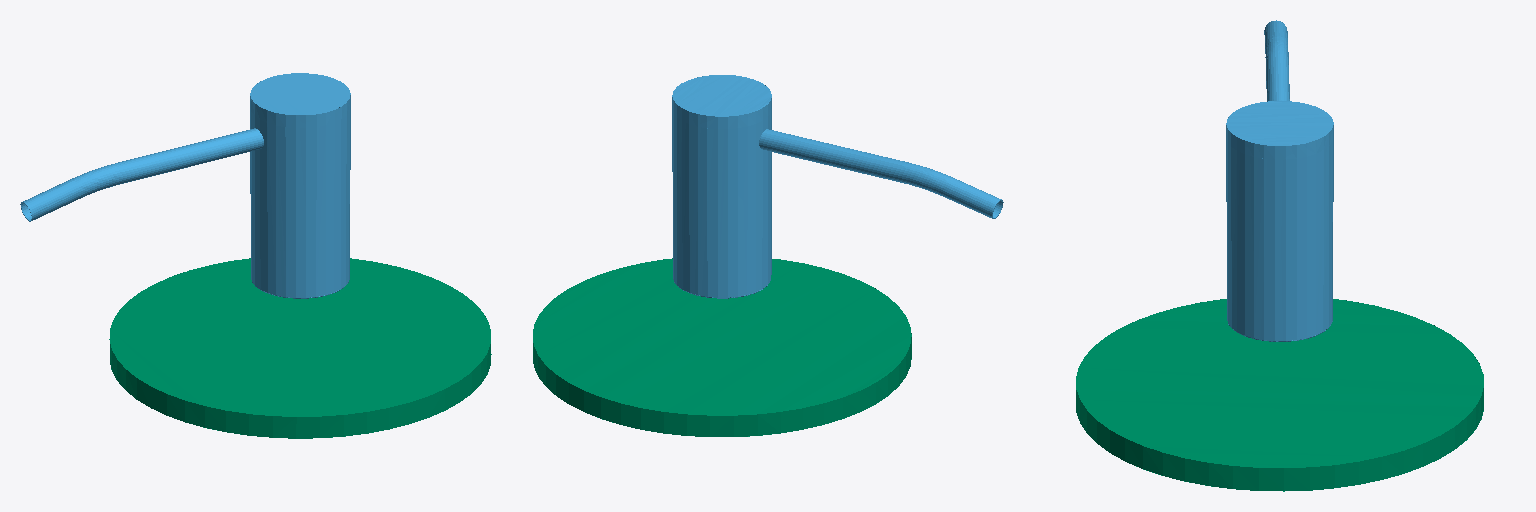
The robot description file, URDF, robot "partnet_e4855c2e-b91c-4372-81fc-cedf42a99185-0":
<?xml version="1.0" ?>
<robot name="partnet_e4855c2e-b91c-4372-81fc-cedf42a99185-0">
	<link name="base"/>
	<link name="link_0">
		<visual name="pressing_lid-1">
			<origin xyz="-0.009750109228952437 0 -0.00019839186977227983"/>
			<geometry>
				<mesh filename="textured_objs/original-6.obj"/>
			</geometry>
		</visual>
		<visual name="pressing_lid-1">
			<origin xyz="-0.009750109228952437 0 -0.00019839186977227983"/>
			<geometry>
				<mesh filename="textured_objs/original-4.obj"/>
			</geometry>
		</visual>
		<visual name="pressing_lid-1">
			<origin xyz="-0.009750109228952437 0 -0.00019839186977227983"/>
			<geometry>
				<mesh filename="textured_objs/original-3.obj"/>
			</geometry>
		</visual>
		<collision>
			<origin xyz="-0.009750109228952437 0 -0.00019839186977227983"/>
			<geometry>
				<mesh filename="textured_objs/original-6.obj"/>
			</geometry>
		</collision>
		<collision>
			<origin xyz="-0.009750109228952437 0 -0.00019839186977227983"/>
			<geometry>
				<mesh filename="textured_objs/original-4.obj"/>
			</geometry>
		</collision>
		<collision>
			<origin xyz="-0.009750109228952437 0 -0.00019839186977227983"/>
			<geometry>
				<mesh filename="textured_objs/original-3.obj"/>
			</geometry>
		</collision>
	</link>
	<joint name="joint_0" type="continuous">
		<origin xyz="0.0 0 0.0"/>
		<axis xyz="0 1 0"/>
		<child link="link_0"/>
		<parent link="link_0_helper"/>
	</joint>
	<link name="link_1">
		<visual name="head-3">
			<origin xyz="-0.009750053090139935 0 -0.00019853128332106632"/>
			<geometry>
				<mesh filename="textured_objs/original-10.obj"/>
			</geometry>
		</visual>
		<visual name="head-3">
			<origin xyz="-0.009750053090139935 0 -0.00019853128332106632"/>
			<geometry>
				<mesh filename="textured_objs/original-7.obj"/>
			</geometry>
		</visual>
		<collision>
			<origin xyz="-0.009750053090139935 0 -0.00019853128332106632"/>
			<geometry>
				<mesh filename="textured_objs/original-10.obj"/>
			</geometry>
		</collision>
		<collision>
			<origin xyz="-0.009750053090139935 0 -0.00019853128332106632"/>
			<geometry>
				<mesh filename="textured_objs/original-7.obj"/>
			</geometry>
		</collision>
	</link>
	<joint name="joint_1" type="continuous">
		<origin xyz="0.0 0 0.0"/>
		<axis xyz="0 -1 0"/>
		<child link="link_1"/>
		<parent link="link_1_helper"/>
	</joint>
	<link name="link_2">
		<visual name="base_body-5">
			<origin xyz="0 0 0"/>
			<geometry>
				<mesh filename="textured_objs/original-9.obj"/>
			</geometry>
		</visual>
		<collision>
			<origin xyz="0 0 0"/>
			<geometry>
				<mesh filename="textured_objs/original-9.obj"/>
			</geometry>
		</collision>
	</link>
	<joint name="joint_2" type="fixed">
		<origin rpy="1.570796326794897 0 -1.570796326794897" xyz="0 0 0"/>
		<child link="link_2"/>
		<parent link="base"/>
	</joint>
	<link name="link_0_helper"/>
	<joint name="joint_3" type="prismatic">
		<origin xyz="5.613881250143837e-08 0 -1.394135487864899e-07"/>
		<axis xyz="0 -1 0"/>
		<child link="link_0_helper"/>
		<parent link="link_1"/>
		<limit lower="0" upper="0.06"/>
	</joint>
	<link name="link_1_helper"/>
	<joint name="joint_4" type="prismatic">
		<origin xyz="0.009750053090139935 0 0.00019853128332106632"/>
		<axis xyz="0 1 0"/>
		<child link="link_1_helper"/>
		<parent link="link_2"/>
		<limit lower="0" upper="0.02"/>
	</joint>
</robot>

--- Render facts (derived) ---
Views: 3 orthographic renders of the robot side by side, from view 1: azimuth 30°, elevation 25°; view 2: azimuth 150°, elevation 25°; view 3: azimuth 270°, elevation 25°.
Robot: partnet_e4855c2e-b91c-4372-81fc-cedf42a99185-0 — 6 links, 5 joints (2 continuous, 2 prismatic, 1 fixed); root link base; default pose: all joints at 0.
Visible links, largest first — view 1: link_1, link_0; view 2: link_1, link_0; view 3: link_1, link_0.
Link boxes in pixels (box(x1,y1,x2,y2)): link_1: box(109, 258, 491, 438); link_0: box(20, 73, 350, 298); link_1: box(533, 258, 911, 436); link_0: box(672, 75, 1003, 298); link_1: box(1076, 299, 1483, 491); link_0: box(1226, 20, 1333, 341).
Size in the robot's own frame: 0.5501 by 0.4103 by 0.3126 metres.
Meshes: 6 distinct files referenced, 3 mesh visuals loaded (3 OBJ); not drawn: 3 (reference not matched to a file when rendering).
